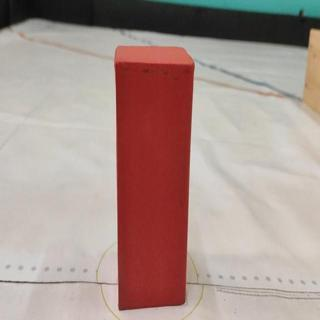redbox: (115, 45, 194, 311)
